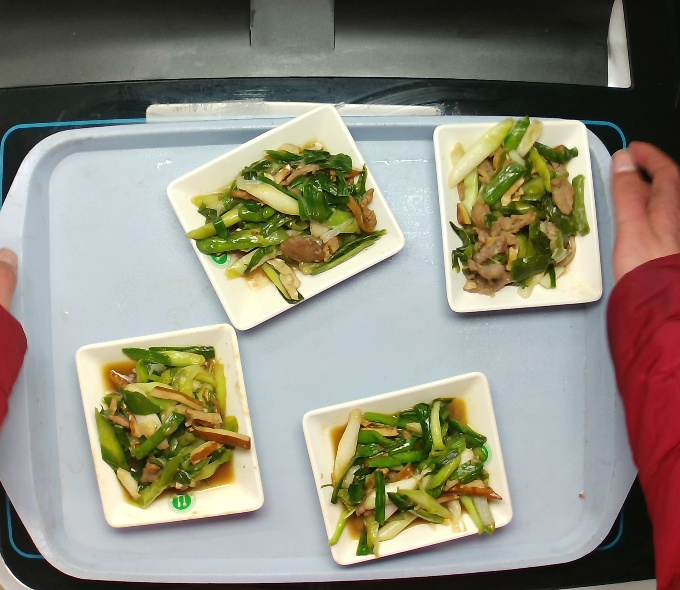wcq-SuanYeChaoRou: (184, 136, 390, 306), (318, 393, 505, 562), (443, 112, 593, 302), (90, 340, 253, 512)
